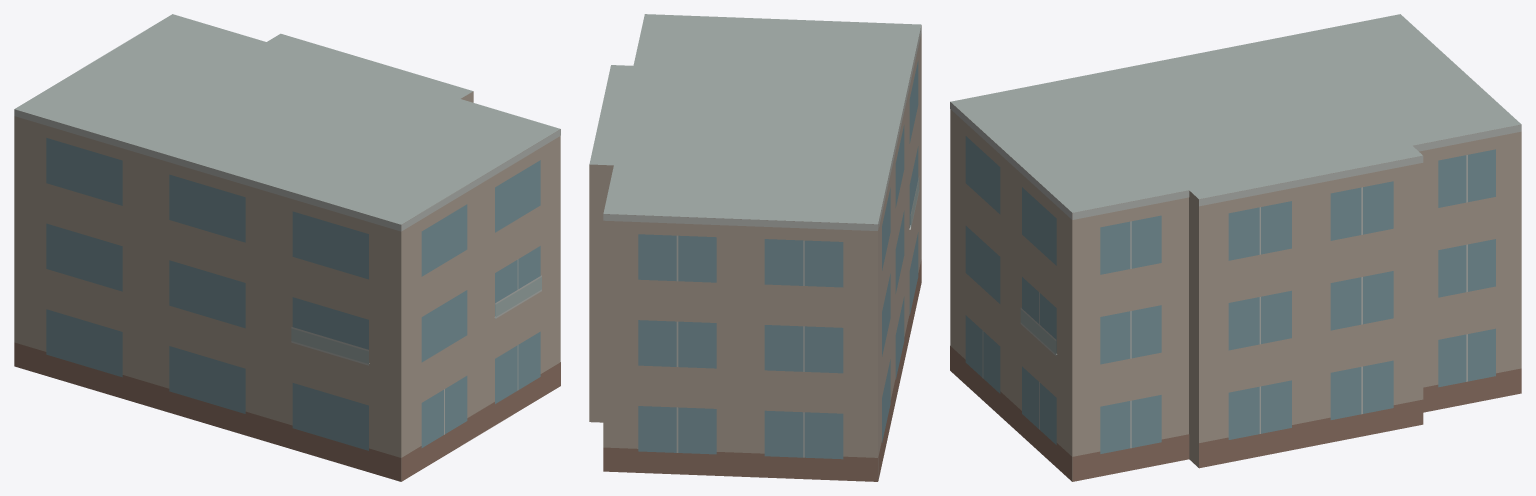
File: survey-upis-32708302.glb
3 views of the same model, side by side, from view 1: azimuth 30°, elevation 25°; view 2: azimuth 150°, elevation 25°; view 3: azimuth 270°, elevation 25° (orthographic). The views are drawn at different scales.
Visible parts, largest first — view 1: survey-upis-32708302.tmp; view 2: survey-upis-32708302.tmp; view 3: survey-upis-32708302.tmp.
Boxes of the visible parts, <box> form: survey-upis-32708302.tmp: <box>14,14,560,481</box>; survey-upis-32708302.tmp: <box>589,14,921,481</box>; survey-upis-32708302.tmp: <box>950,14,1521,481</box>.
Bounding box in the file's own units: 14.52 × 9.15 × 17.63.
